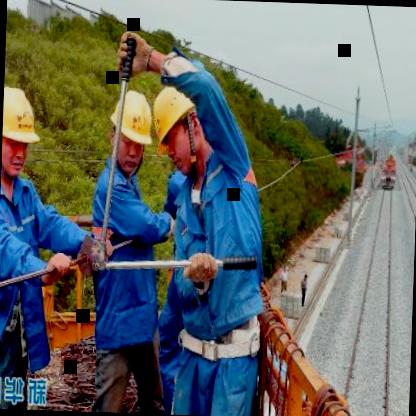helmet: (140, 74, 206, 174), (114, 80, 156, 180), (1, 80, 40, 187)
